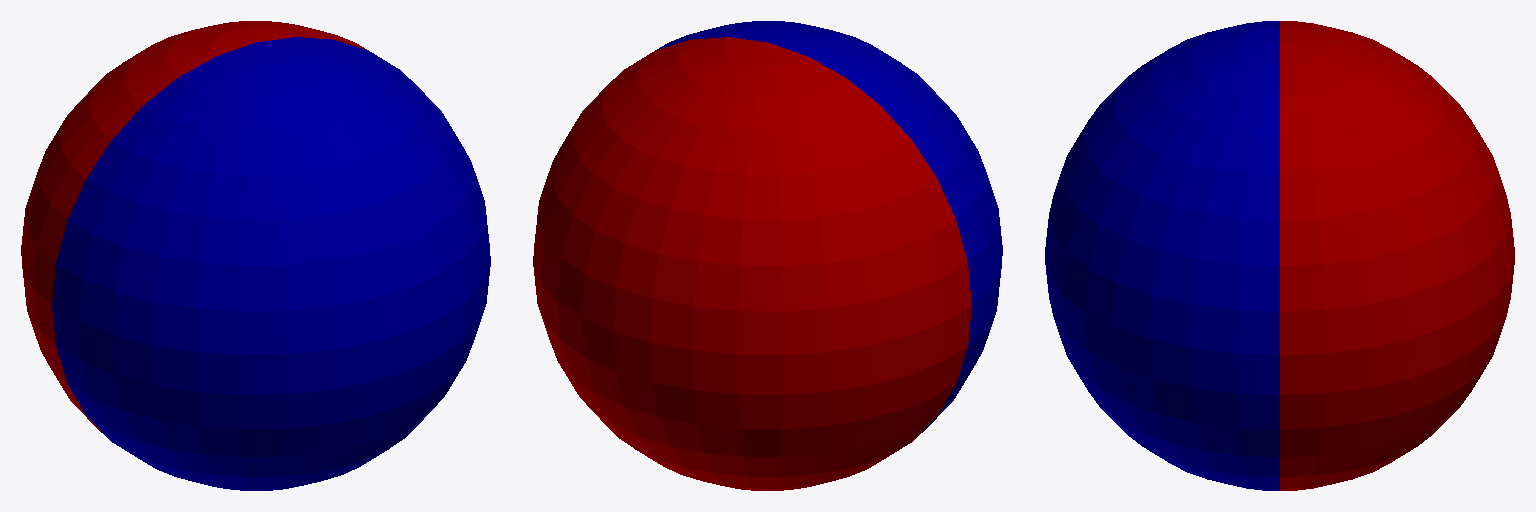
The model's file is sphere_fsmooth.obj.
3 views of the same model, side by side, from view 1: azimuth 30°, elevation 25°; view 2: azimuth 150°, elevation 25°; view 3: azimuth 270°, elevation 25° (orthographic).
Visible parts, largest first — view 1: Mesh_Sphere; view 2: Mesh_Sphere; view 3: Mesh_Sphere.
Part boxes in pixels (left/top/right/bottom): Mesh_Sphere: left=21, top=21, right=490, bottom=490; Mesh_Sphere: left=533, top=21, right=1002, bottom=490; Mesh_Sphere: left=1045, top=21, right=1514, bottom=490.
Size of the model in its own units: 1 by 1 by 1.